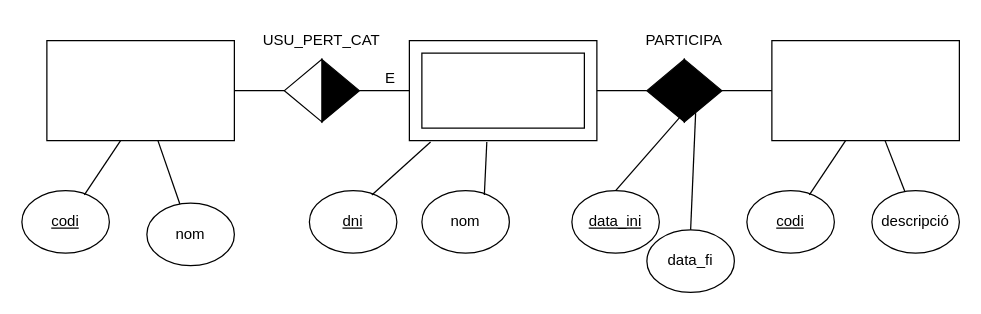
The diagram is 981 pixels wide and 314 high, and some of its shapes have lost their labels. The centre of each missing label's shape, as x and y in pixels:
"CATEGORIA" goes at (140,90).
"ESPORT" goes at (865,90).
"USUARI" goes at (502,90).
